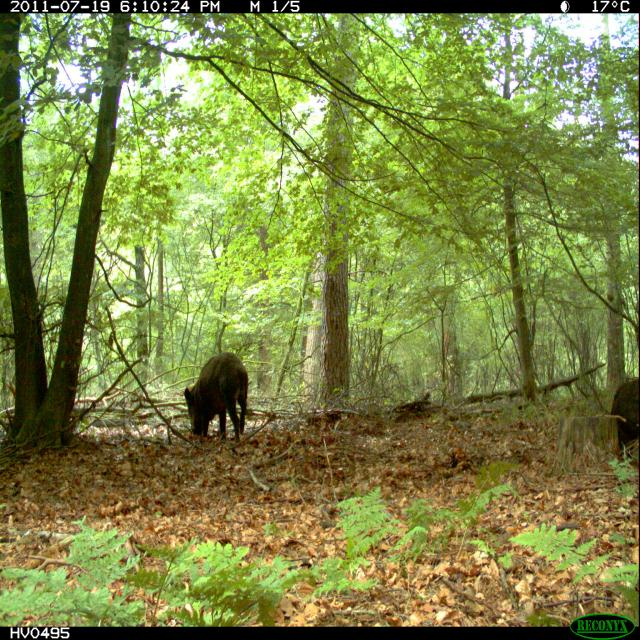boar: (170, 332, 265, 457), (601, 345, 640, 470)
